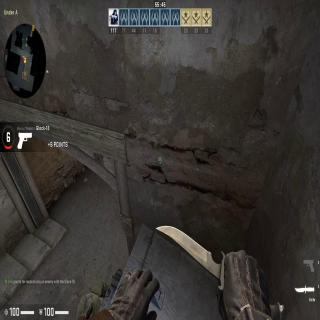CT-Head: (76, 295, 93, 320)
